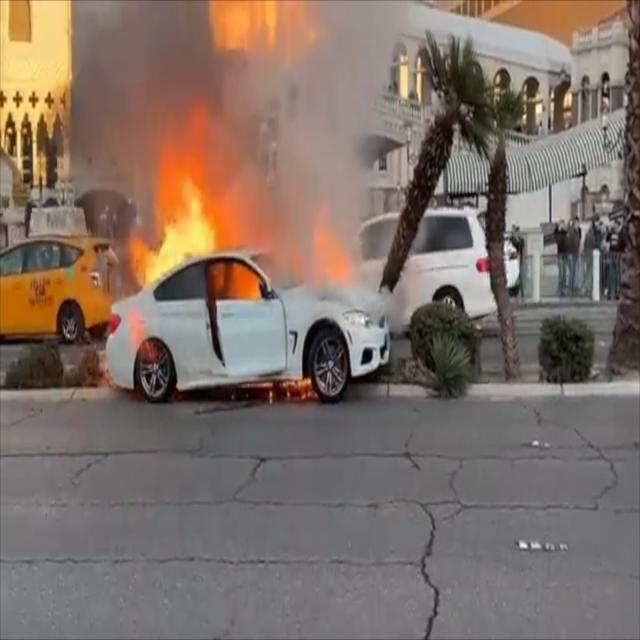fire: (125, 105, 278, 298)
